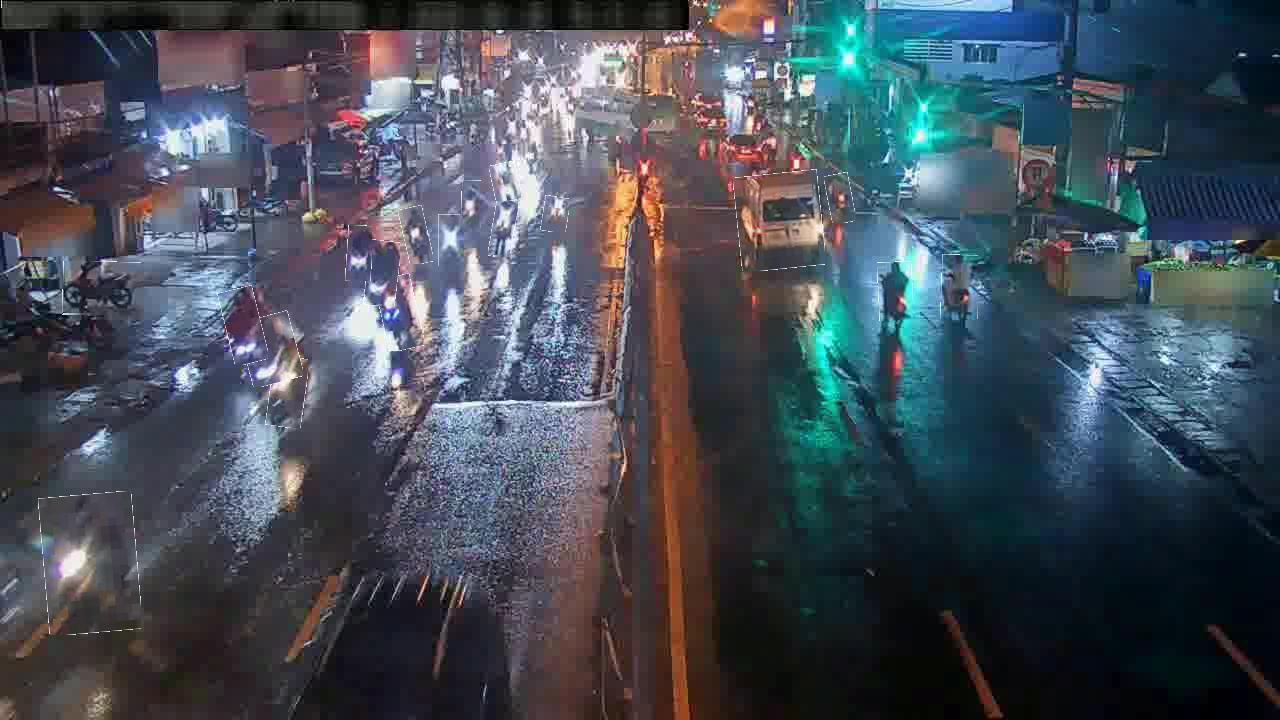14: (736, 171, 824, 270)
motorbike: (41, 493, 140, 635), (241, 313, 301, 386), (63, 262, 142, 316), (222, 287, 265, 365), (378, 275, 422, 351), (268, 356, 307, 428), (941, 255, 979, 320), (365, 240, 400, 307), (878, 262, 914, 323), (401, 206, 431, 265), (491, 198, 517, 258), (346, 226, 373, 282), (826, 173, 854, 224), (438, 214, 461, 267), (491, 162, 521, 202), (542, 196, 569, 233), (462, 180, 482, 229)
